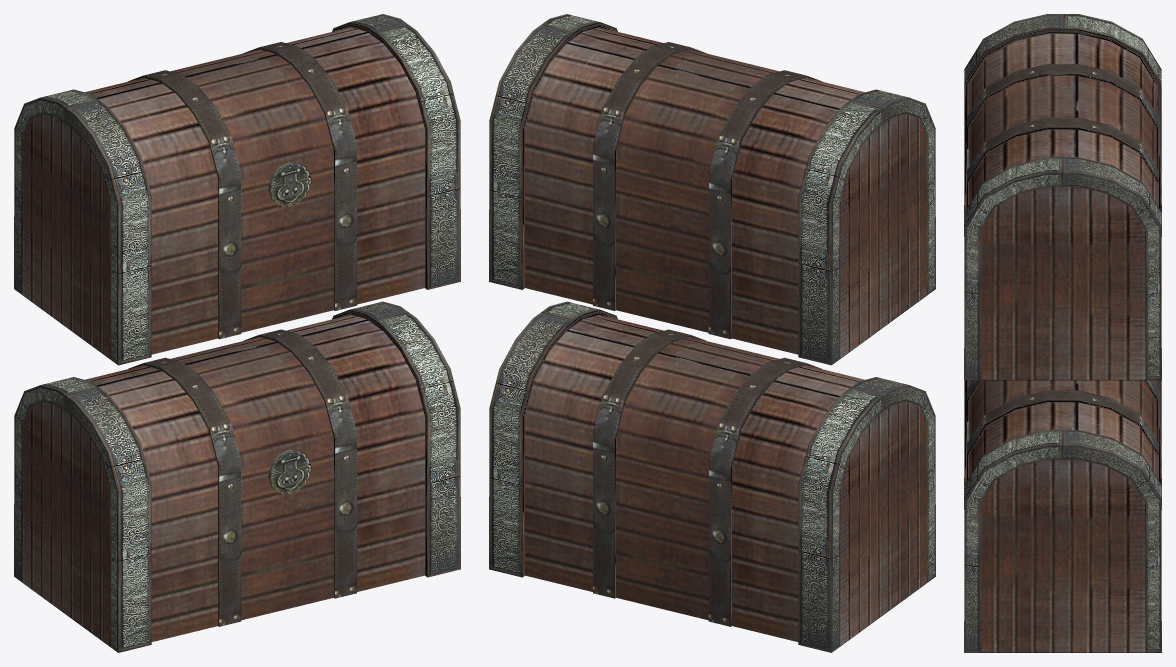
File: chest_01.fbx
3 views of the same model, side by side, from view 1: azimuth 30°, elevation 25°; view 2: azimuth 150°, elevation 25°; view 3: azimuth 270°, elevation 25° (orthographic). The views are drawn at different scales.
Parts seen in each view (by area): view 1: treasure_chest_child, treasure_chest; view 2: treasure_chest_child, treasure_chest; view 3: treasure_chest, treasure_chest_child.
Part boxes in pixels (x1=…): treasure_chest_child: x1=14, y1=301, x2=460, y2=652; treasure_chest: x1=14, y1=14, x2=460, y2=365; treasure_chest_child: x1=489, y1=301, x2=935, y2=652; treasure_chest: x1=489, y1=14, x2=935, y2=365; treasure_chest: x1=964, y1=14, x2=1161, y2=380; treasure_chest_child: x1=964, y1=380, x2=1161, y2=652.
Size of the model in its own units: 2.49 by 3.52 by 1.31.
1 material, 1 textured.
